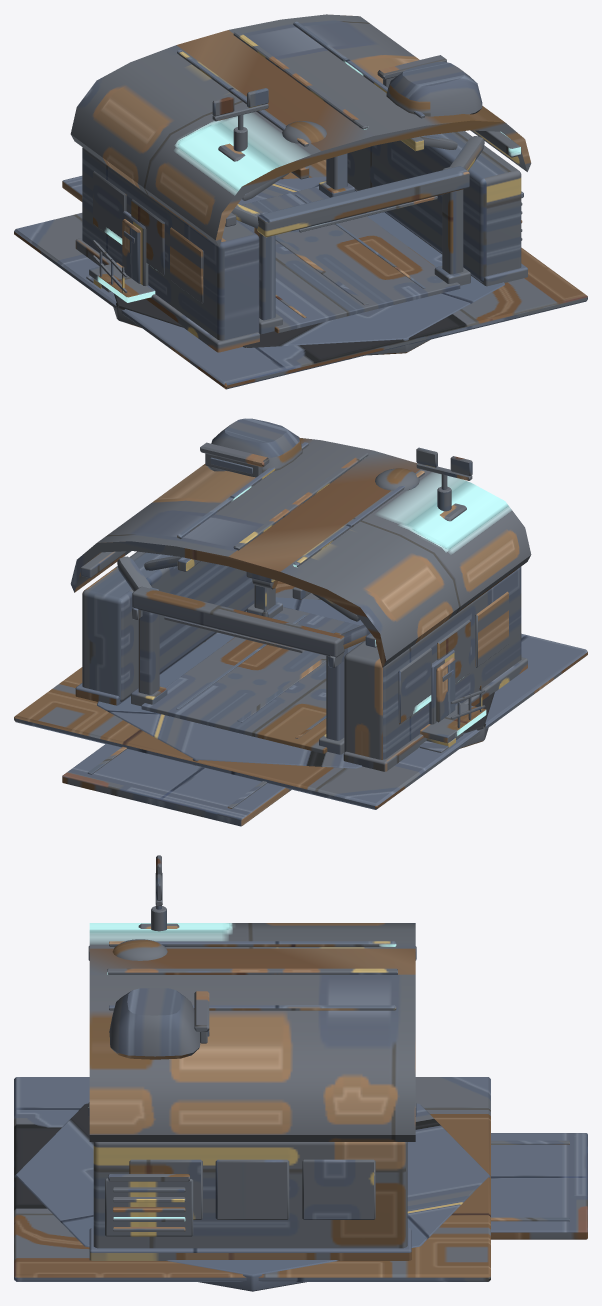
The model's file is OverlordCommandHQFactory_Atlas.fbx.
3 renders of one model, top to bottom at view 1: azimuth 30°, elevation 25°; view 2: azimuth 150°, elevation 25°; view 3: azimuth 270°, elevation 25°, orthographic. The views are drawn at different scales.
Parts seen in each view (by area): view 1: OverlordCommandHQFactory_UnifiedMesh; view 2: OverlordCommandHQFactory_UnifiedMesh; view 3: OverlordCommandHQFactory_UnifiedMesh.
Boxes of the visible parts, bbox=[...] form: OverlordCommandHQFactory_UnifiedMesh: bbox=[14, 14, 587, 389]; OverlordCommandHQFactory_UnifiedMesh: bbox=[14, 418, 587, 826]; OverlordCommandHQFactory_UnifiedMesh: bbox=[14, 855, 587, 1291].
Bounding box in the file's own units: 957 × 591 × 1155.
Materials: 1 (1 with a texture image).
